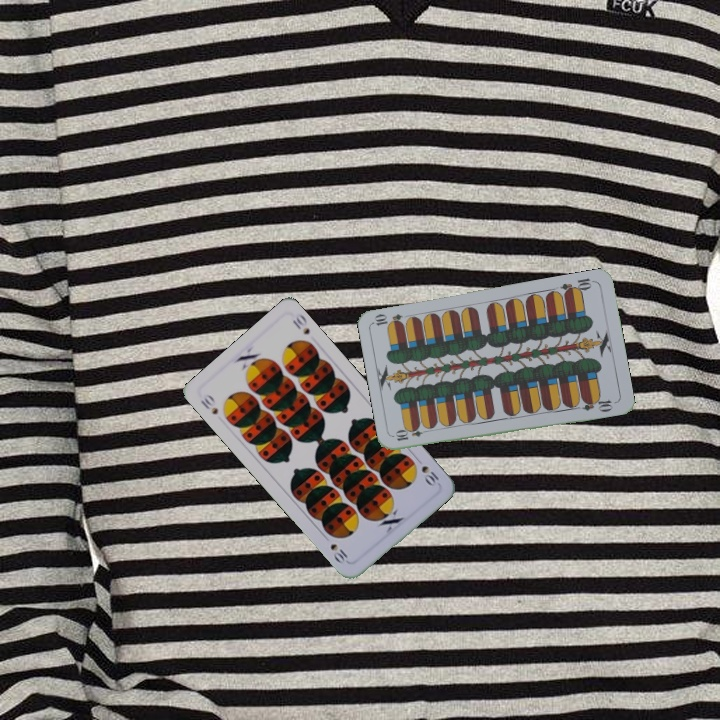E10: (557, 274, 597, 298), (391, 424, 432, 444)
S10: (411, 453, 443, 490), (196, 390, 221, 417)
